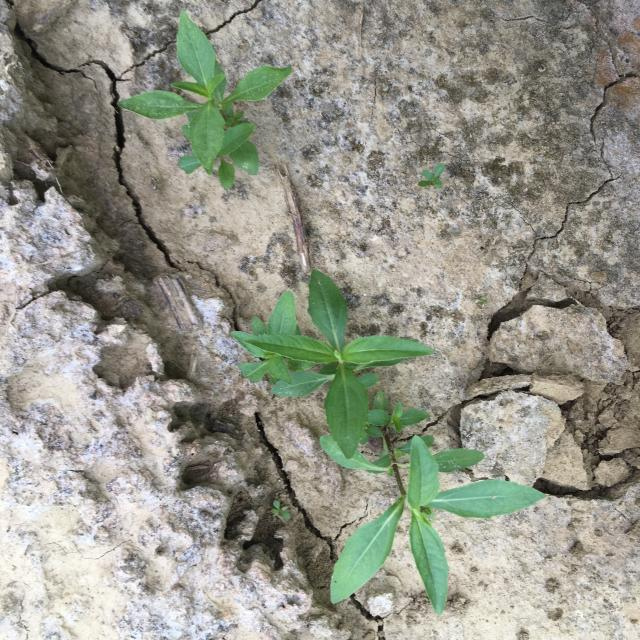Eclipta: (319, 391, 548, 616), (232, 269, 435, 459), (117, 10, 293, 190)
